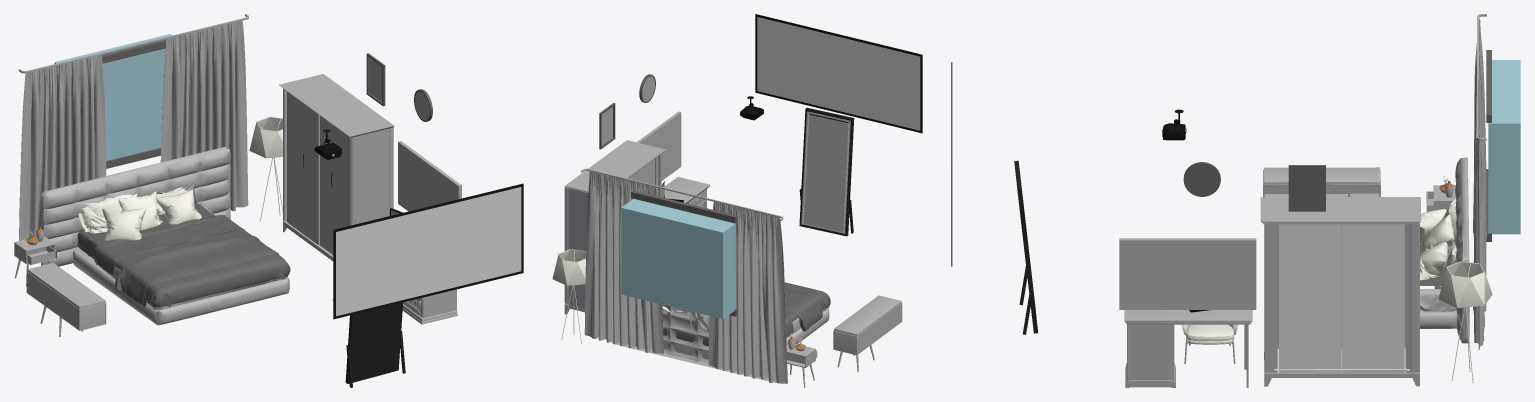
The model's file is basement-bedroom.glb.
3 renders of one model, left to right at view 1: azimuth 30°, elevation 25°; view 2: azimuth 150°, elevation 25°; view 3: azimuth 270°, elevation 25°, orthographic. The views are drawn at different scales.
Parts seen in each view (by area): view 1: 1 PROJETOR_.012, Object104.001, Box003.002, Object105.001, Curtain.004, Curtain.003, Box121.002, legs.001, Cube.566_Material.001_0.001, Box120.002, Circle.001, Olivia2020.001 (+7 smaller); view 2: 1 PROJETOR_.012, Box121.002, Curtain.003, Curtain.004, Cube.566_Material.004_0.001, Box003.002, Object104.001, legs.001, Object105.001, Box120.002, Circle.001, Cube.565_Material.005_0.001 (+6 smaller); view 3: Box003.002, Box120.002, Box121.002, Object104.001, Olivia2020.001, legs.001, Circle.001, Curtain.004, Box119.002, Armchair_Cloud.001, Curtain.003, Cylinder018.002 (+2 smaller).
Boxes of the visible parts, x1,y1,x2,y2 form: 1 PROJETOR_.012: (333,183,523,319); Object104.001: (41,147,289,325); Box003.002: (279,74,394,261); Object105.001: (77,202,290,309); Curtain.004: (160,21,248,211); Curtain.003: (18,55,106,260); Box121.002: (54,34,172,160); legs.001: (26,263,106,337); Cube.566_Material.001_0.001: (351,303,401,380); Box120.002: (398,141,461,211); Circle.001: (249,116,282,221); Olivia2020.001: (402,289,457,324); 1 PROJETOR_.012: (755,14,922,133); Box121.002: (621,198,735,319); Curtain.003: (708,202,787,383); Curtain.004: (584,171,663,353); Cube.566_Material.004_0.001: (801,112,850,233); Box003.002: (564,140,665,314); Object104.001: (611,300,829,382); legs.001: (833,295,902,372); Object105.001: (663,282,830,346); Box120.002: (637,111,681,180); Circle.001: (552,249,585,343); Cube.565_Material.005_0.001: (799,107,854,236); Box003.002: (1260,197,1420,386); Box120.002: (1119,238,1256,309); Box121.002: (1488,60,1520,234); Object104.001: (1420,157,1469,343); Olivia2020.001: (1124,310,1252,387); legs.001: (1263,167,1380,196); Circle.001: (1438,261,1492,383); Curtain.004: (1473,95,1486,349); Box119.002: (1288,165,1325,211); Armchair_Cloud.001: (1181,324,1238,363); Curtain.003: (1473,18,1486,236); Cylinder018.002: (1183,162,1220,196).
Size of the model in its own units: 2.18 by 1.36 by 2.99.
